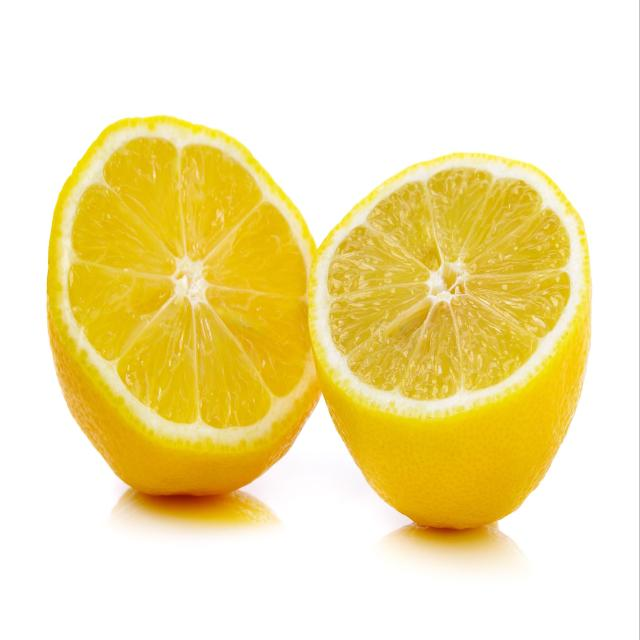lemon: (300, 143, 596, 535)
